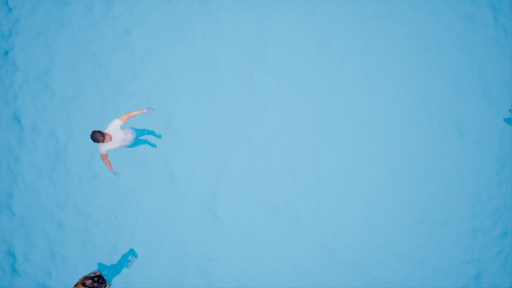person: (88, 104, 170, 177), (70, 240, 140, 288)
